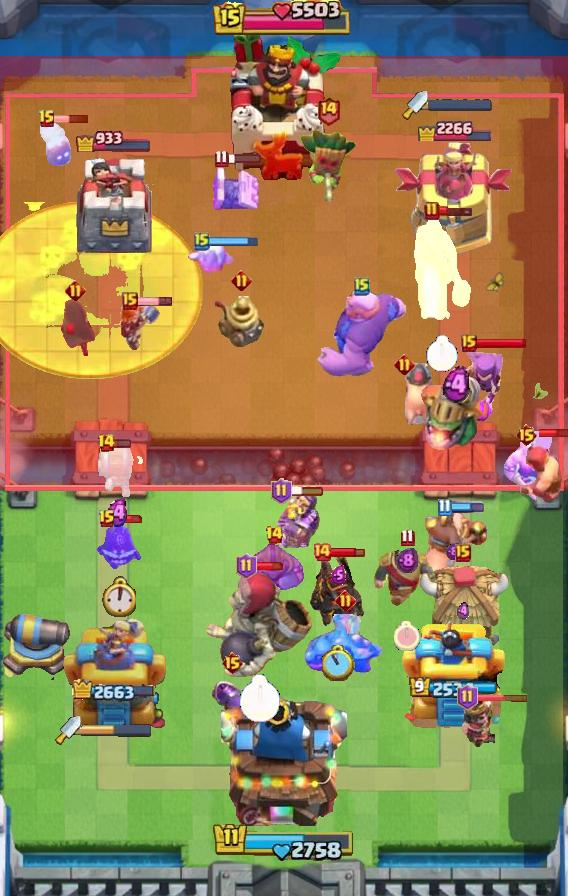archer: (502, 439, 550, 501)
archer-evolution: (308, 552, 368, 632)
balloon: (315, 287, 409, 379)
bar: (395, 142, 514, 256), (61, 615, 166, 731)
bomber: (38, 119, 74, 169)
bomber-evolution: (461, 699, 495, 749)
clock: (212, 821, 356, 863), (213, 0, 355, 38)
electro-giant: (203, 571, 317, 679)
electro-spirit: (443, 366, 469, 404), (104, 498, 132, 528), (396, 546, 418, 574), (330, 565, 345, 585), (447, 542, 462, 561), (457, 603, 469, 622)
elixir: (239, 673, 281, 723), (100, 576, 135, 617), (321, 645, 354, 681), (426, 335, 458, 372), (394, 621, 420, 651)
emote: (475, 337, 527, 349), (207, 236, 259, 247), (475, 693, 529, 703), (226, 152, 262, 164), (438, 205, 474, 217), (289, 485, 325, 497), (449, 501, 485, 513), (330, 546, 366, 558), (136, 297, 173, 308), (55, 114, 90, 124), (540, 427, 568, 439), (113, 514, 145, 524), (254, 561, 286, 571), (113, 439, 132, 450)
executioner: (403, 363, 435, 427)
firecracker: (374, 549, 443, 606)
firecracker-evolution: (276, 489, 320, 551), (211, 679, 253, 721)
freeze: (411, 211, 473, 323), (416, 503, 490, 591)
goblin-barrel: (298, 128, 358, 204)
goblin-brawler: (208, 163, 260, 213)
goblin-drill: (215, 296, 267, 350)
goblin-giant: (243, 544, 305, 592)
graveyard: (303, 614, 387, 678)
hog-rider: (118, 300, 164, 354)
king-tower: (224, 23, 344, 181), (221, 690, 347, 826)
king-tower-bar: (81, 723, 153, 737), (428, 99, 492, 111)
knight: (95, 443, 145, 499)
mighty-miner: (512, 431, 568, 507)
mirror: (186, 239, 236, 277)
night-witch: (418, 373, 494, 451)
phoenix-egg: (0, 202, 204, 379)
prince: (416, 564, 510, 654)
queen-tower: (399, 617, 507, 731), (74, 157, 154, 256)
rascal-girl: (459, 344, 507, 422)
royal-recruit: (0, 610, 74, 680)
selected: (410, 676, 499, 700), (71, 679, 156, 704), (416, 115, 493, 141), (75, 128, 153, 152)
spear-goblin: (94, 522, 142, 574)
tesla: (53, 300, 97, 360)
text: (316, 95, 341, 126), (514, 423, 537, 447), (221, 651, 244, 675), (272, 478, 293, 504), (236, 553, 257, 579), (458, 684, 479, 710), (335, 589, 357, 611), (231, 269, 252, 291), (394, 353, 415, 375), (66, 280, 87, 301), (312, 542, 332, 562), (97, 433, 116, 453), (264, 525, 283, 545), (38, 109, 56, 129), (98, 509, 116, 529), (424, 201, 440, 221), (194, 231, 210, 251), (354, 276, 370, 296), (122, 292, 138, 310), (461, 334, 477, 352), (455, 544, 471, 562), (215, 148, 229, 167), (437, 498, 451, 517), (401, 528, 415, 547)
